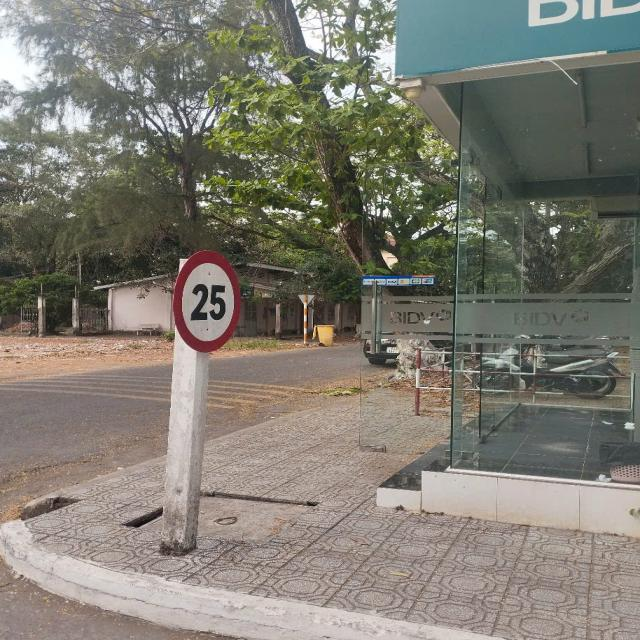Tre_Em: (172, 249, 242, 353)
